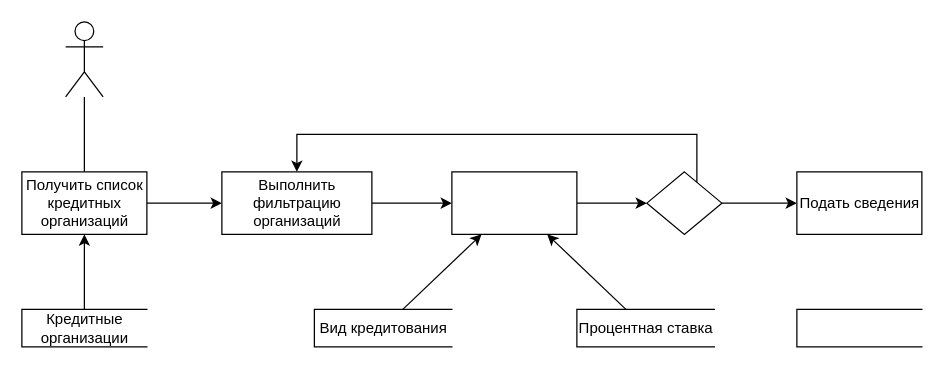
The diagram is 944 pixels wide and 369 high, and some of its shapes have lost their labels. The shapes that lost their labels are listed below. From the top down, each one's centre as x and y in pixels, then its label:
At (83,59): "Клиент".
At (514,202): "Открыть карточку организации".
